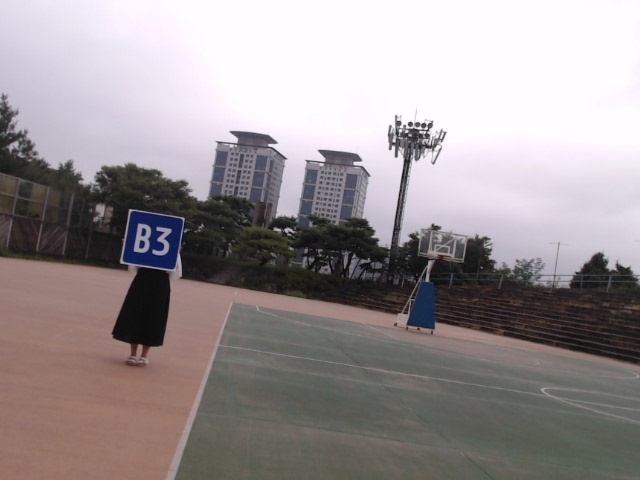delivery_b3: (123, 210, 184, 270)
